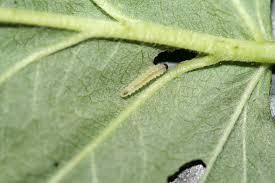Insects: (119, 61, 171, 100)
